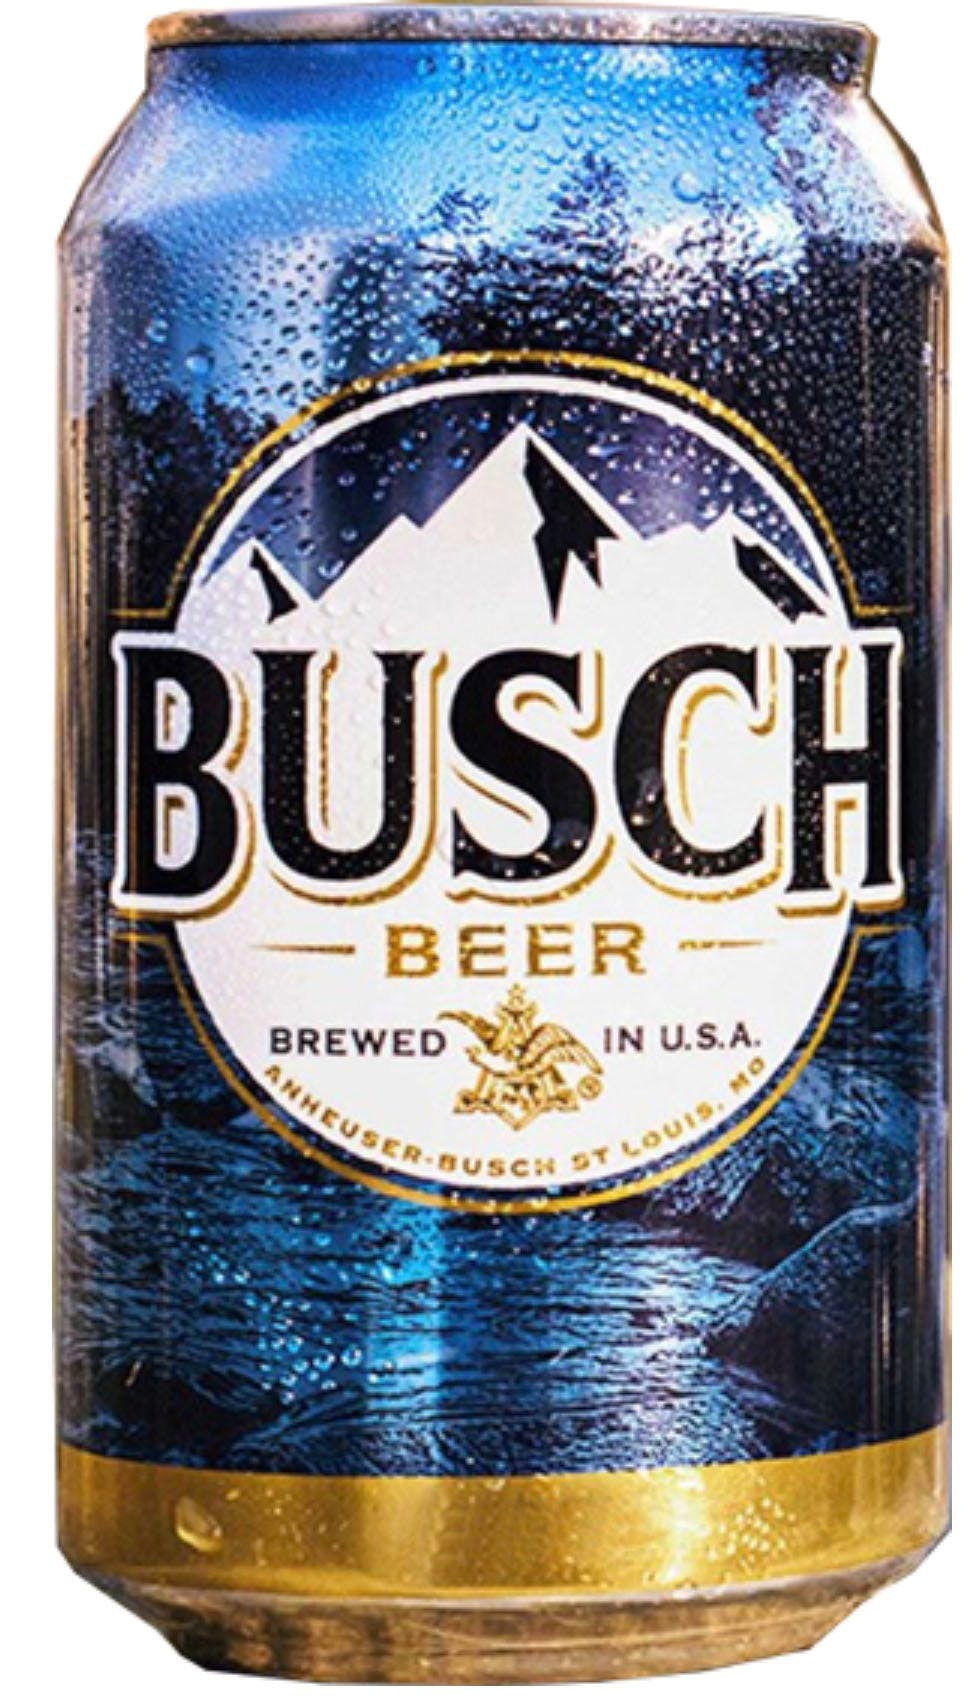beer can: (53, 9, 952, 1687)
